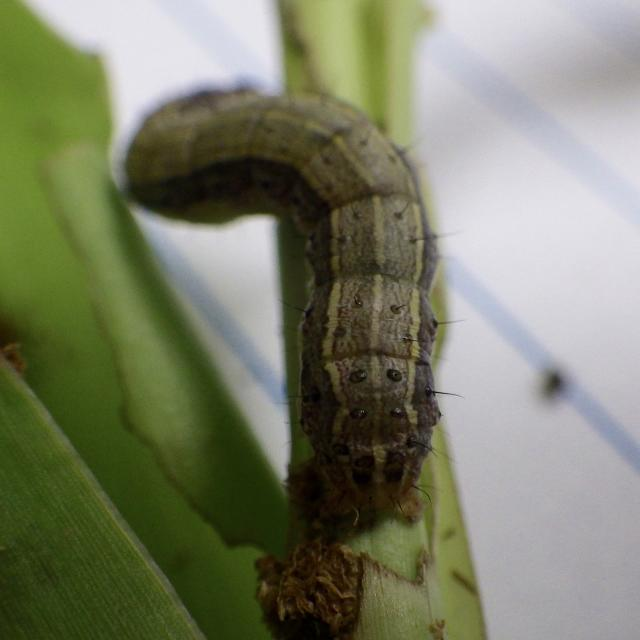armyworm: (97, 58, 481, 548)
